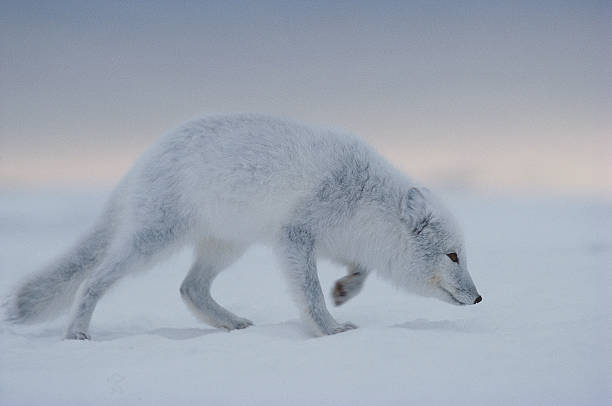arcticfox: (394, 194, 469, 305)
